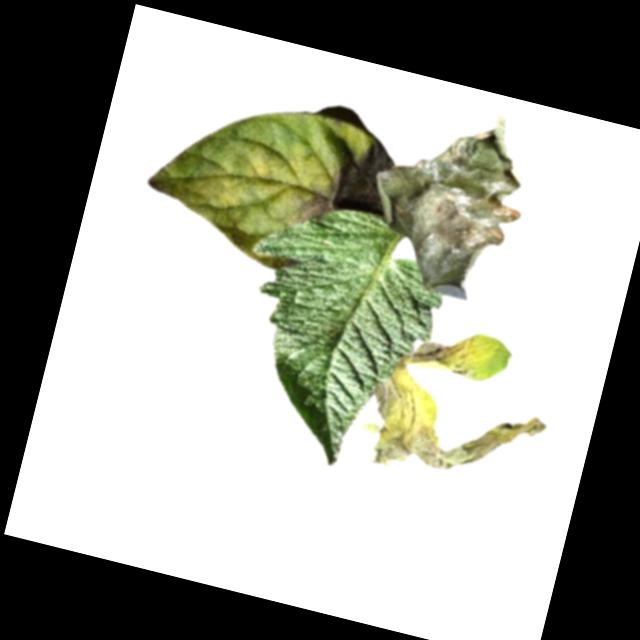Late_blight: (354, 93, 541, 307), (358, 376, 551, 505), (294, 128, 387, 237), (407, 318, 496, 384)
healthy: (208, 190, 457, 482)
